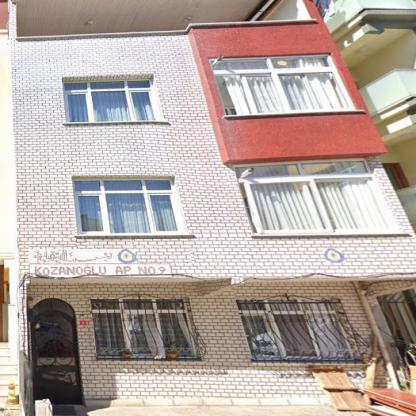door: (34, 313, 79, 402)
window: (235, 160, 392, 233), (209, 56, 354, 115), (238, 302, 352, 358), (74, 180, 180, 233), (92, 300, 192, 355), (65, 80, 155, 122), (30, 299, 74, 318)
